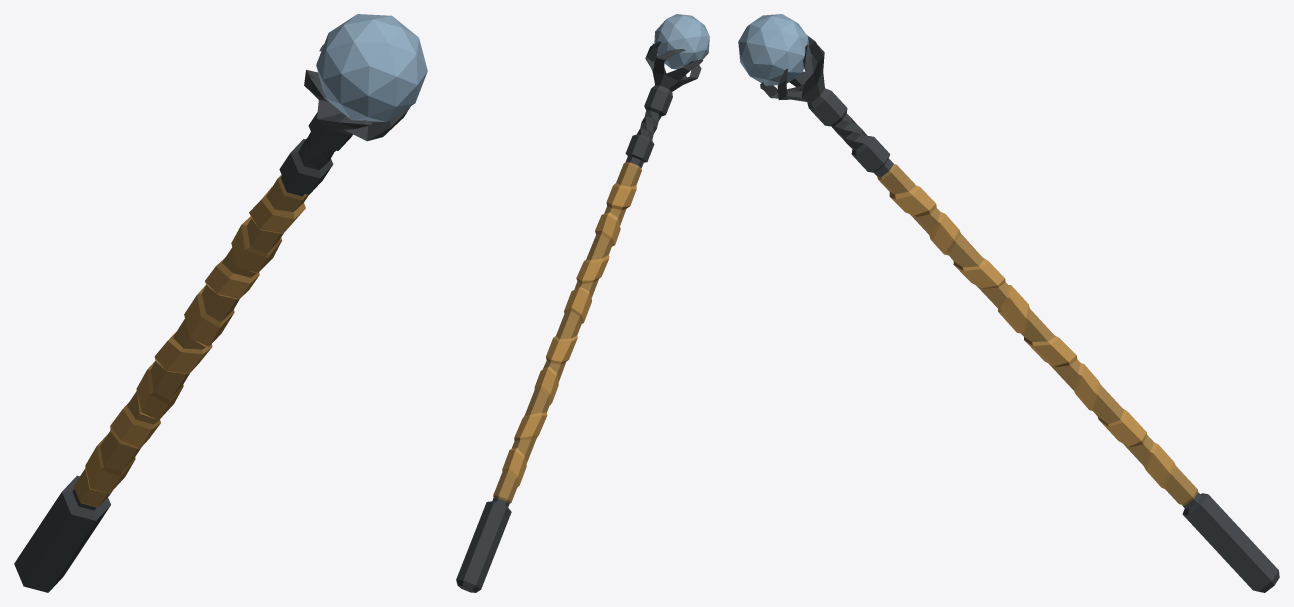
Rendered from fk-staff-12.glb.
3 renders of one model, left to right at view 1: azimuth 30°, elevation 25°; view 2: azimuth 150°, elevation 25°; view 3: azimuth 270°, elevation 25°, orthographic. The views are drawn at different scales.
Parts seen in each view (by area): view 1: fk-staff-12; view 2: fk-staff-12; view 3: fk-staff-12.
Part boxes in pixels (bbox=[...]): fk-staff-12: bbox=[14, 14, 427, 592]; fk-staff-12: bbox=[456, 14, 709, 592]; fk-staff-12: bbox=[738, 14, 1279, 592].
Bounding box in the file's own units: 0.1527 × 1.16 × 1.01.
1 material, 1 textured.
